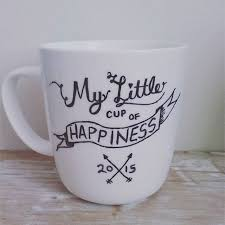cup: (1, 40, 206, 215)
